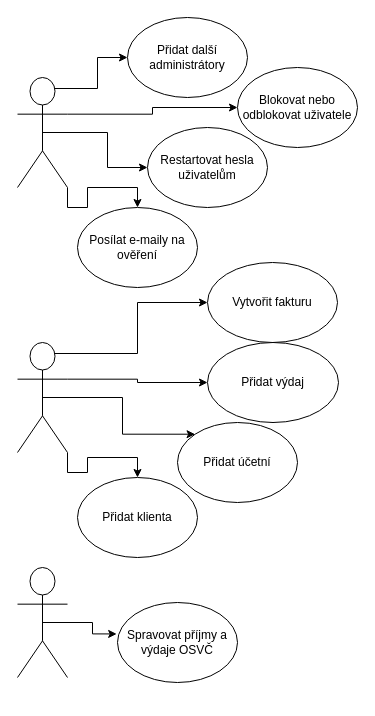
Some shapes in this 375 by 716 pixel diagram are drawn without their labels. The shapes that lost their labels are listed below. From the top down, each one's centre as x and y in pixels, then its label:
At point 42,132: "Admin".
At point 42,397: "OSVČ".
At point 42,622: "Účetní".
